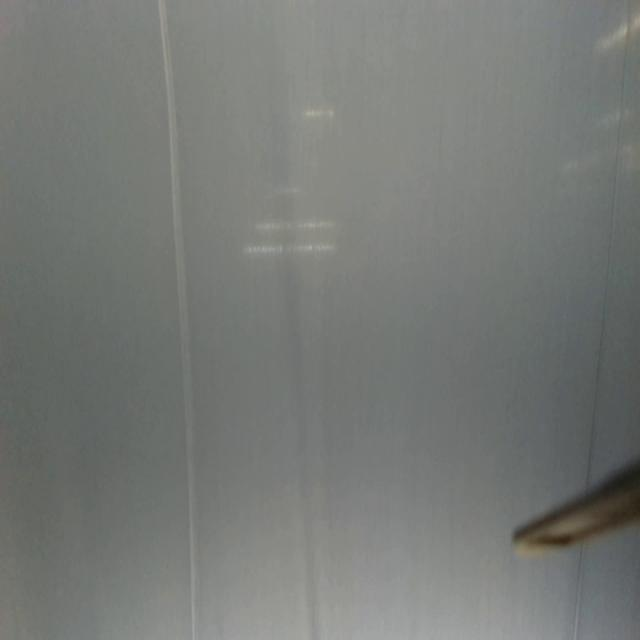crease: (157, 0, 205, 639), (587, 0, 635, 460), (572, 542, 588, 640)
